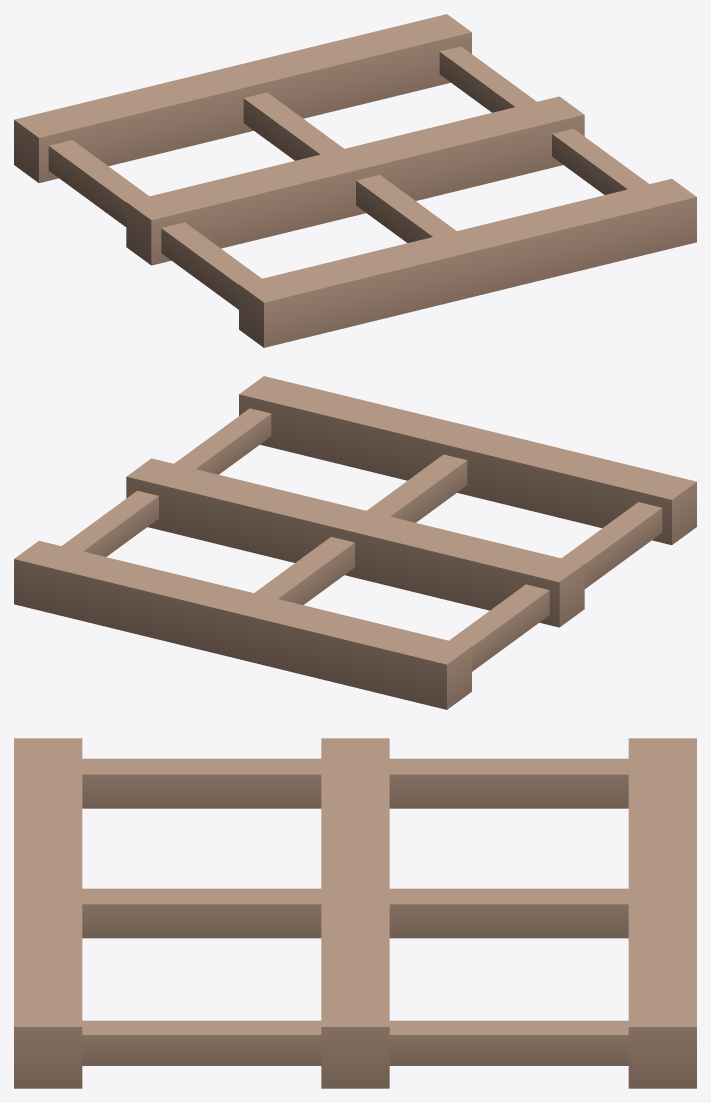
File: trellis-horizontal (%wall).glb
3 renders of one model, top to bottom at view 1: azimuth 30°, elevation 25°; view 2: azimuth 150°, elevation 25°; view 3: azimuth 270°, elevation 25°, orthographic. The views are drawn at different scales.
Parts seen in each view (by area): view 1: trellis-horizontal (%wall); view 2: trellis-horizontal (%wall); view 3: trellis-horizontal (%wall).
Boxes of the visible parts, <box> form: trellis-horizontal (%wall): <box>14,14,696,347</box>; trellis-horizontal (%wall): <box>14,376,696,709</box>; trellis-horizontal (%wall): <box>14,738,696,1088</box>.
Size of the model in its own units: 0.5 by 0.05 by 0.5.
